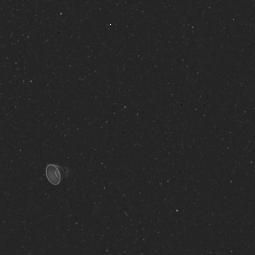debris: (42, 154, 79, 187)
